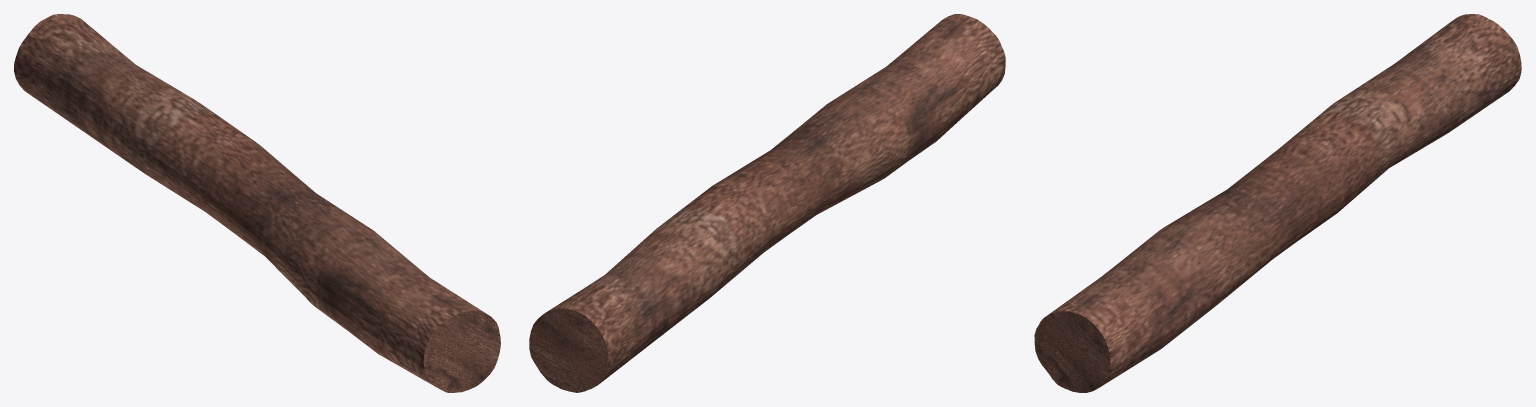
File: branch4.fbx
3 renders of one model, left to right at view 1: azimuth 30°, elevation 25°; view 2: azimuth 150°, elevation 25°; view 3: azimuth 330°, elevation 25°, orthographic. The views are drawn at different scales.
Parts seen in each view (by area): view 1: Cylinder; view 2: Cylinder; view 3: Cylinder.
Boxes of the visible parts, box(x1,y1,x2,y2) form: Cylinder: box(14, 14, 500, 392); Cylinder: box(529, 14, 1005, 392); Cylinder: box(1034, 14, 1521, 392).
Bounding box in the file's own units: 24.2 × 23.77 × 202.
